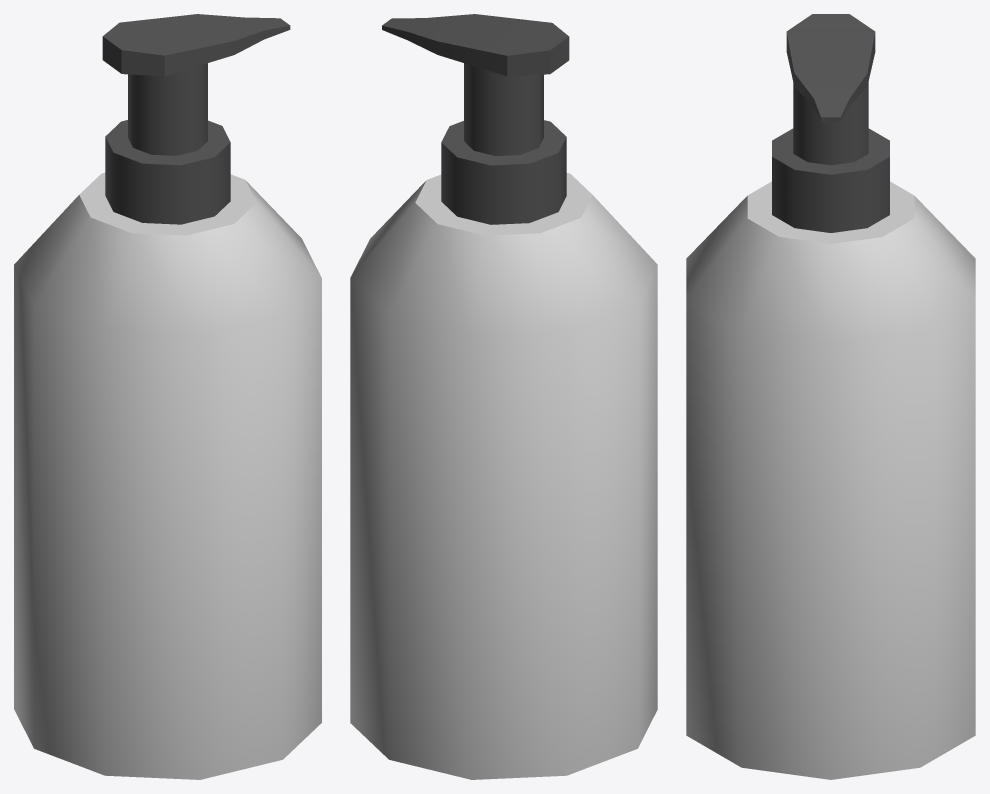
The model's file is LotionBottle.fbx.
The picture shows the model from 3 angles, left to right: view 1: azimuth 30°, elevation 25°; view 2: azimuth 150°, elevation 25°; view 3: azimuth 270°, elevation 25°; orthographic projection.
Visible parts, largest first — view 1: LotionBottle; view 2: LotionBottle; view 3: LotionBottle.
Part boxes in pixels (x1,y1,x2,y2): LotionBottle: [14, 14, 321, 779]; LotionBottle: [350, 14, 657, 779]; LotionBottle: [686, 14, 975, 779].
Size of the model in its own units: 126 by 309 by 120.
1 material, 1 textured.
